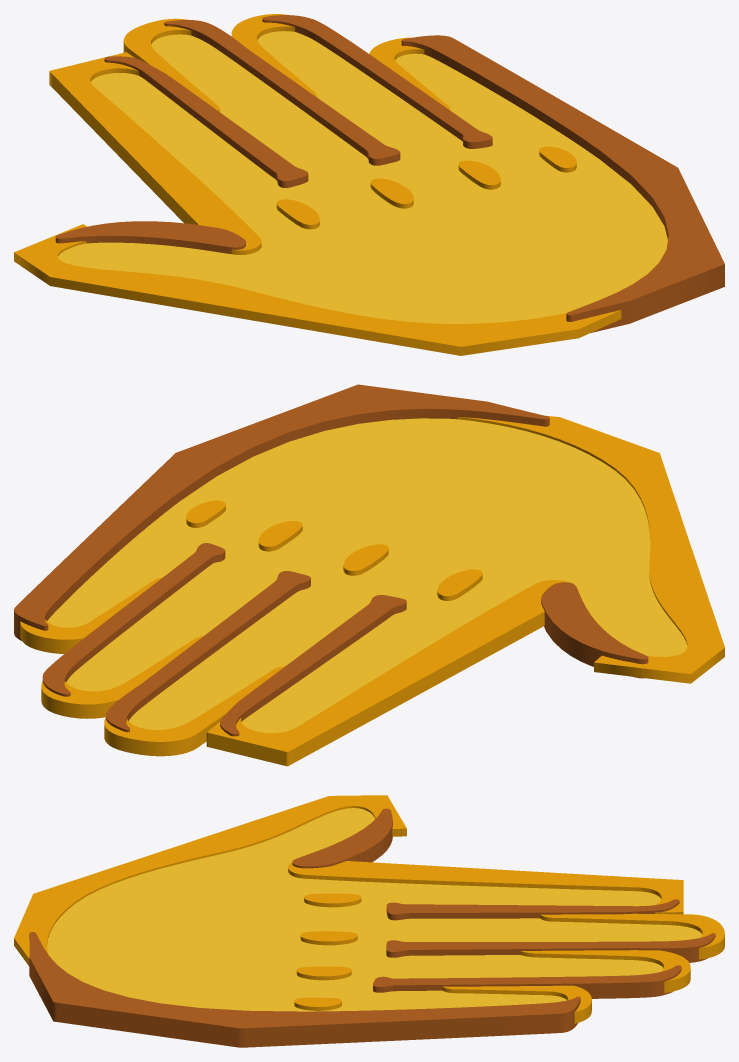
The model's file is emoji_u1f91a.glb.
The picture shows the model from 3 angles, top to bottom: view 1: azimuth 30°, elevation 25°; view 2: azimuth 150°, elevation 25°; view 3: azimuth 270°, elevation 25°; orthographic projection. The views are drawn at different scales.
Visible parts, largest first — view 1: emoji_u1f91a; view 2: emoji_u1f91a; view 3: emoji_u1f91a.
Part boxes in pixels (x1,y1,x2,y2): emoji_u1f91a: (14, 14, 724, 355); emoji_u1f91a: (14, 384, 724, 766); emoji_u1f91a: (14, 795, 724, 1047).
Bounding box in the file's own units: 0.0266 × 0.001 × 0.0334.
